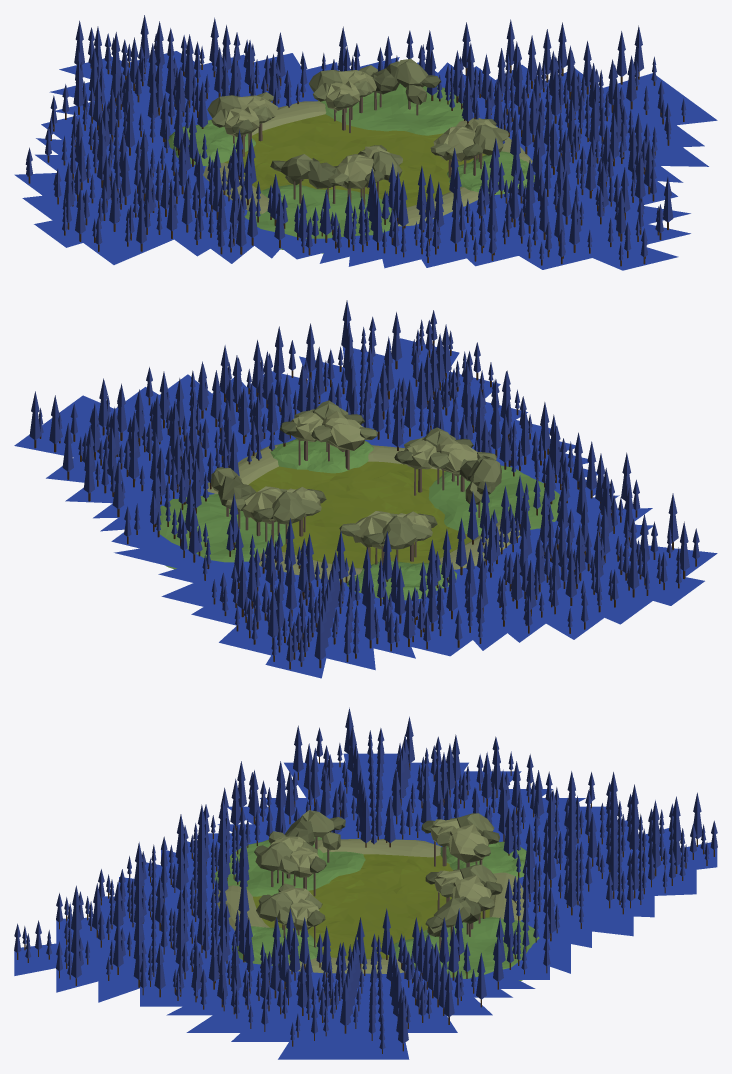
The model's file is forest04_FlutterDreams.glb.
The picture shows the model from 3 angles, top to bottom: view 1: azimuth 30°, elevation 25°; view 2: azimuth 150°, elevation 25°; view 3: azimuth 270°, elevation 25°; orthographic projection. The views are drawn at different scales.
Visible parts, largest first — view 1: trees_blue, grass, SM_Generic_Tree_Patch_02, SM_Generic_Ground_02, SM_Generic_Tree_Patch_02.001, SM_Generic_Ground_02.001, SM_Generic_Tree_Patch_01.001, SM_Generic_Tree_Patch_01, SM_Generic_Ground_04, SM_Generic_Ground_04.001, SM_Env_Road_GrassEdge_02, SM_Env_Road_GrassEdge_02.001 (+1 smaller); view 2: trees_blue, grass, SM_Generic_Tree_Patch_02.001, SM_Generic_Tree_Patch_02, SM_Generic_Ground_02, SM_Generic_Ground_02.001, SM_Generic_Tree_Patch_01.001, SM_Generic_Tree_Patch_01, SM_Generic_Ground_04.001, SM_Generic_Ground_04, SM_Env_Road_GrassEdge_02.003, SM_Env_Road_GrassEdge_02.002; view 3: trees_blue, grass, SM_Generic_Tree_Patch_02.001, SM_Generic_Tree_Patch_02, SM_Generic_Ground_02.001, SM_Generic_Ground_02, SM_Generic_Tree_Patch_01, SM_Generic_Tree_Patch_01.001, SM_Env_Road_GrassEdge_02.002, SM_Generic_Ground_04, SM_Generic_Ground_04.001, SM_Env_Road_GrassEdge_02.001 (+2 smaller).
Boxes of the visible parts, x1=… form: trees_blue: x1=14, y1=51, x2=717, y2=270; grass: x1=224, y1=114, x2=485, y2=207; SM_Generic_Tree_Patch_02: x1=309, y1=58, x2=441, y2=132; SM_Generic_Ground_02: x1=318, y1=83, x2=463, y2=135; SM_Generic_Tree_Patch_02.001: x1=270, y1=145, x2=402, y2=205; SM_Generic_Ground_02.001: x1=244, y1=184, x2=391, y2=253; SM_Generic_Tree_Patch_01.001: x1=430, y1=118, x2=509, y2=177; SM_Generic_Tree_Patch_01: x1=207, y1=92, x2=278, y2=156; SM_Generic_Ground_04: x1=168, y1=119, x2=255, y2=166; SM_Generic_Ground_04.001: x1=447, y1=151, x2=535, y2=194; SM_Env_Road_GrassEdge_02: x1=252, y1=101, x2=326, y2=135; SM_Env_Road_GrassEdge_02.001: x1=390, y1=187, x2=478, y2=226; trees_blue: x1=14, y1=338, x2=717, y2=678; grass: x1=249, y1=461, x2=471, y2=568; SM_Generic_Tree_Patch_02.001: x1=394, y1=427, x2=501, y2=517; SM_Generic_Tree_Patch_02: x1=210, y1=467, x2=326, y2=544; SM_Generic_Ground_02: x1=159, y1=494, x2=288, y2=569; SM_Generic_Ground_02.001: x1=428, y1=465, x2=559, y2=535; SM_Generic_Tree_Patch_01.001: x1=279, y1=400, x2=377, y2=469; SM_Generic_Tree_Patch_01: x1=339, y1=511, x2=437, y2=565; SM_Generic_Ground_04.001: x1=270, y1=439, x2=373, y2=473; SM_Generic_Ground_04: x1=346, y1=561, x2=457, y2=600; SM_Env_Road_GrassEdge_02.003: x1=204, y1=444, x2=278, y2=493; SM_Env_Road_GrassEdge_02.002: x1=439, y1=519, x2=530, y2=569; trees_blue: x1=14, y1=753, x2=717, y2=1059; grass: x1=245, y1=854, x2=489, y2=962; SM_Generic_Tree_Patch_02.001: x1=254, y1=810, x2=345, y2=896; SM_Generic_Tree_Patch_02: x1=425, y1=864, x2=502, y2=950; SM_Generic_Ground_02.001: x1=214, y1=837, x2=365, y2=896; SM_Generic_Ground_02: x1=388, y1=917, x2=539, y2=980; SM_Generic_Tree_Patch_01: x1=421, y1=813, x2=499, y2=869; SM_Generic_Tree_Patch_01.001: x1=256, y1=883, x2=325, y2=947; SM_Env_Road_GrassEdge_02.002: x1=314, y1=839, x2=440, y2=857; SM_Generic_Ground_04: x1=440, y1=841, x2=526, y2=877; SM_Generic_Ground_04.001: x1=231, y1=926, x2=318, y2=965; SM_Env_Road_GrassEdge_02.001: x1=214, y1=885, x2=269, y2=930.
Bounding box in the file's own units: 35.5 × 4.94 × 34.53.
Materials: 5 (2 with a texture image).
